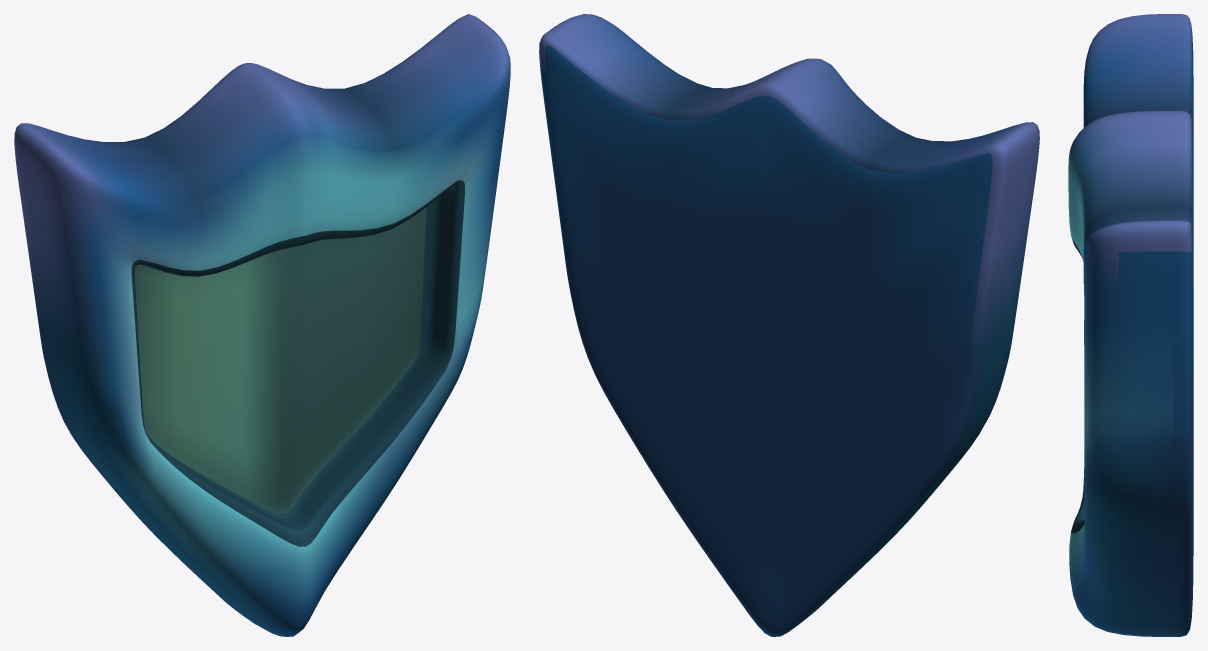
File: shield_01.fbx
3 renders of one model, left to right at view 1: azimuth 30°, elevation 25°; view 2: azimuth 150°, elevation 25°; view 3: azimuth 270°, elevation 25°, orthographic. The views are drawn at different scales.
Visible parts, largest first — view 1: Cube; view 2: Cube; view 3: Cube.
Part boxes in pixels (box(x1,y1,x2,y2)): Cube: box(14, 14, 510, 636); Cube: box(539, 14, 1039, 636); Cube: box(1068, 14, 1193, 636).
Size of the model in its own units: 550 by 624 by 135.
